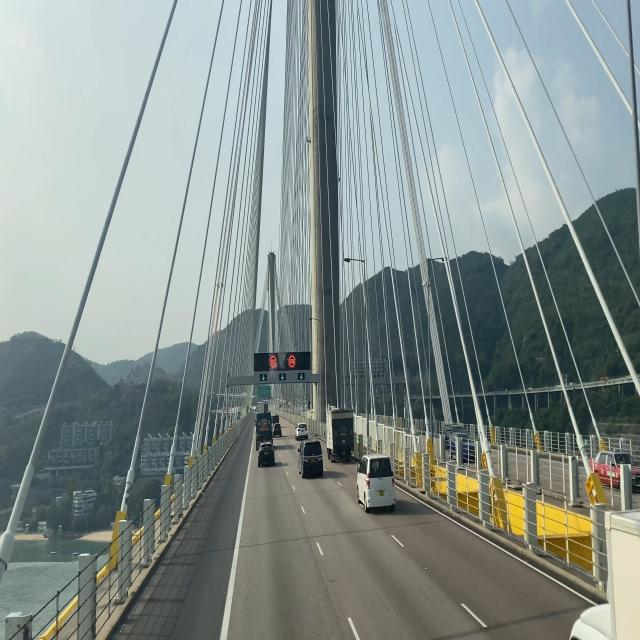Car: (354, 454, 398, 518), (325, 405, 358, 465), (298, 438, 326, 480), (257, 441, 277, 468), (295, 421, 310, 441)
